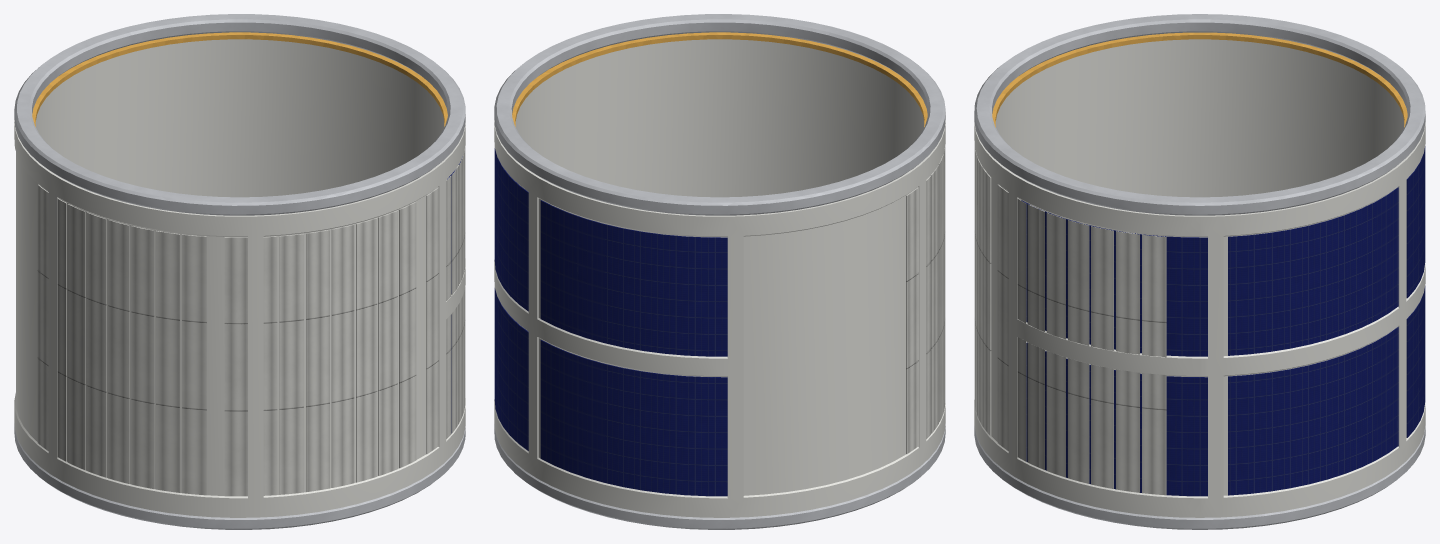
The model's file is ax_cmd_12_service_trunk.glb.
3 renders of one model, left to right at view 1: azimuth 30°, elevation 25°; view 2: azimuth 150°, elevation 25°; view 3: azimuth 270°, elevation 25°, orthographic.
Visible parts, largest first — view 1: trunk_skin, radiator_panels, interface_rings, separation_ring_mli; view 2: trunk_skin, solar_cells, interface_rings, radiator_panels, separation_ring_mli; view 3: trunk_skin, solar_cells, radiator_panels, interface_rings, separation_ring_mli.
Boxes of the visible parts, bbox=[...] form: trunk_skin: bbox=[14, 39, 465, 517]; radiator_panels: bbox=[37, 147, 465, 496]; interface_rings: bbox=[14, 14, 465, 529]; separation_ring_mli: bbox=[32, 32, 447, 126]; trunk_skin: bbox=[494, 39, 945, 517]; solar_cells: bbox=[494, 148, 727, 496]; interface_rings: bbox=[494, 14, 945, 529]; radiator_panels: bbox=[906, 146, 945, 453]; separation_ring_mli: bbox=[512, 32, 927, 126]; trunk_skin: bbox=[974, 39, 1425, 517]; solar_cells: bbox=[1021, 146, 1425, 496]; radiator_panels: bbox=[974, 147, 1166, 495]; interface_rings: bbox=[974, 14, 1425, 529]; separation_ring_mli: bbox=[992, 32, 1407, 127].
Size of the model in its own units: 3.75 by 3 by 3.75.
6 materials, 5 textured.
